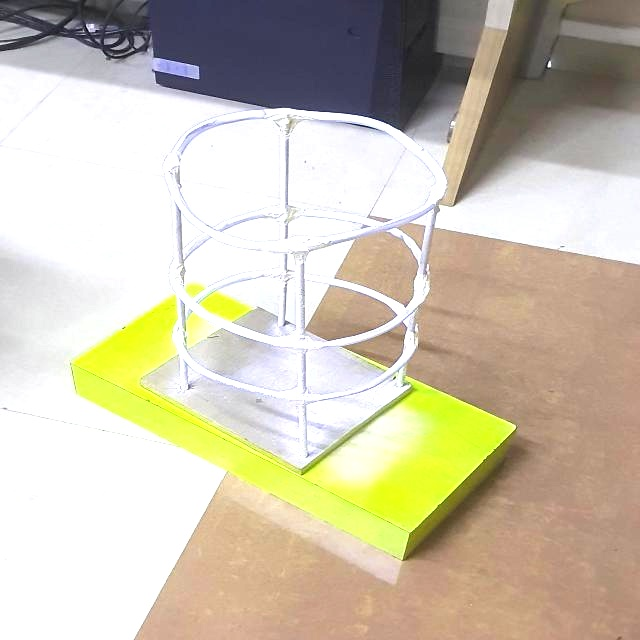silo: (163, 107, 412, 459)
